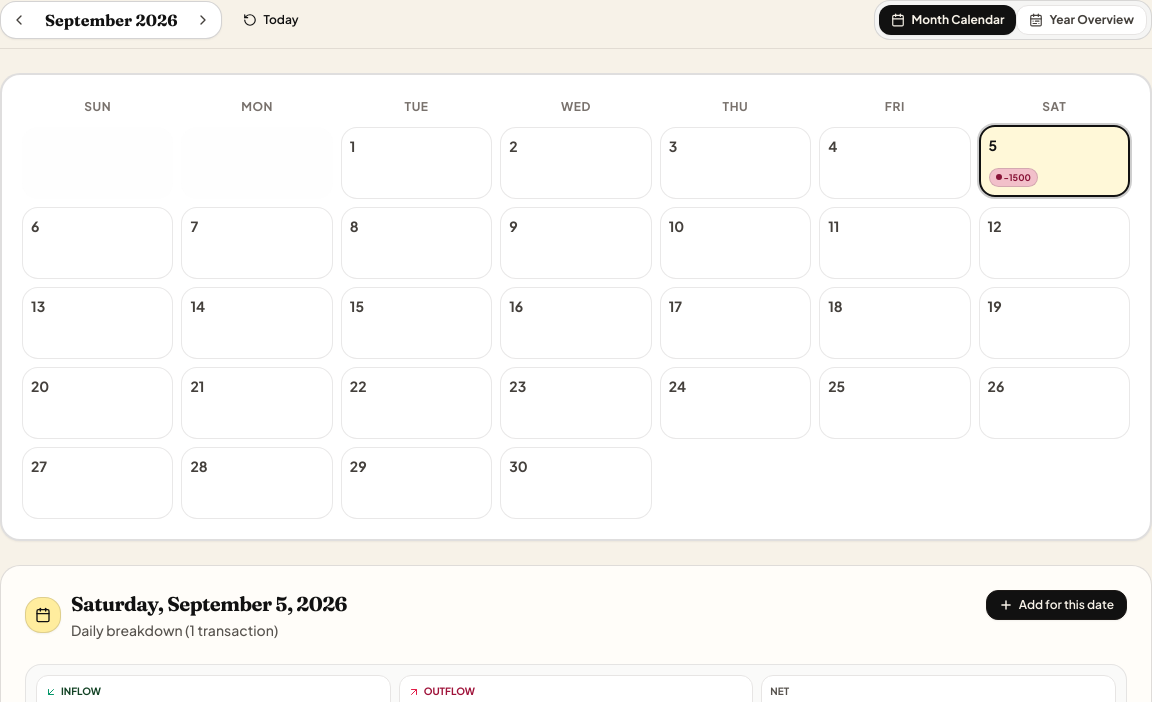
Test: CashFlowView Component (TDD) › navigates previous and next months
Click the button with test id "prev-month-btn" at (19, 20), box [5,6,33,34]
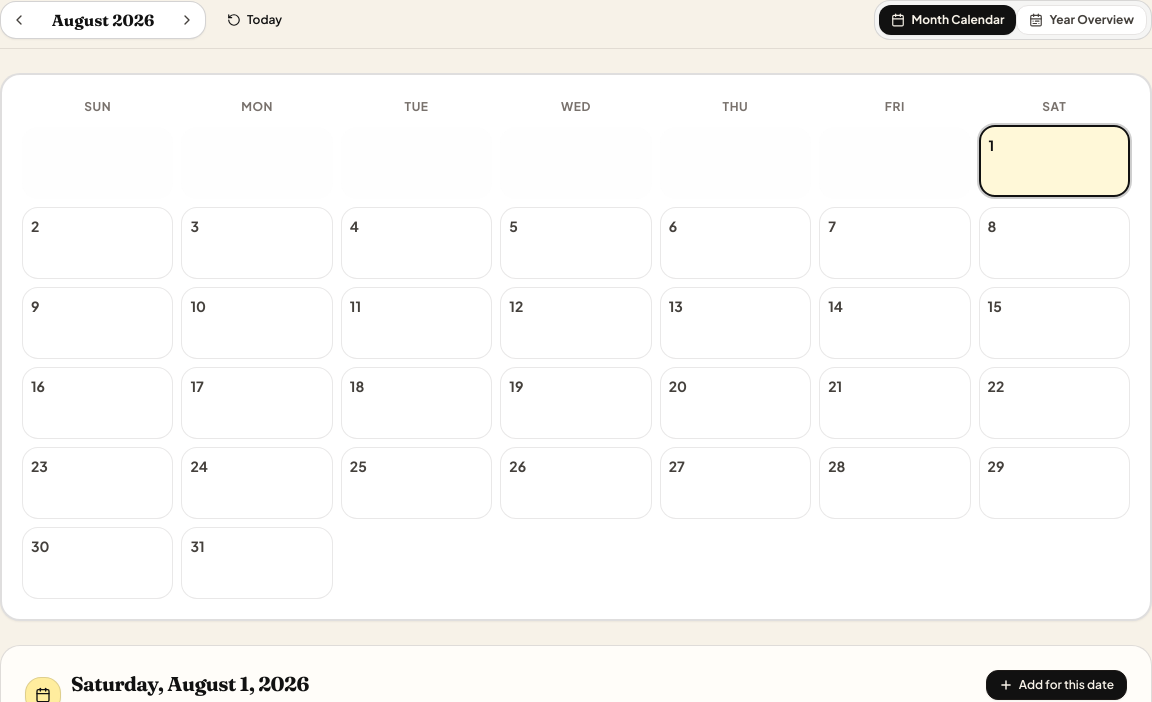
Result: the text "August 2026" is shown at [52,10,154,30]
Click the button with test id "next-month-btn" at (187, 20), box [173,6,201,34]
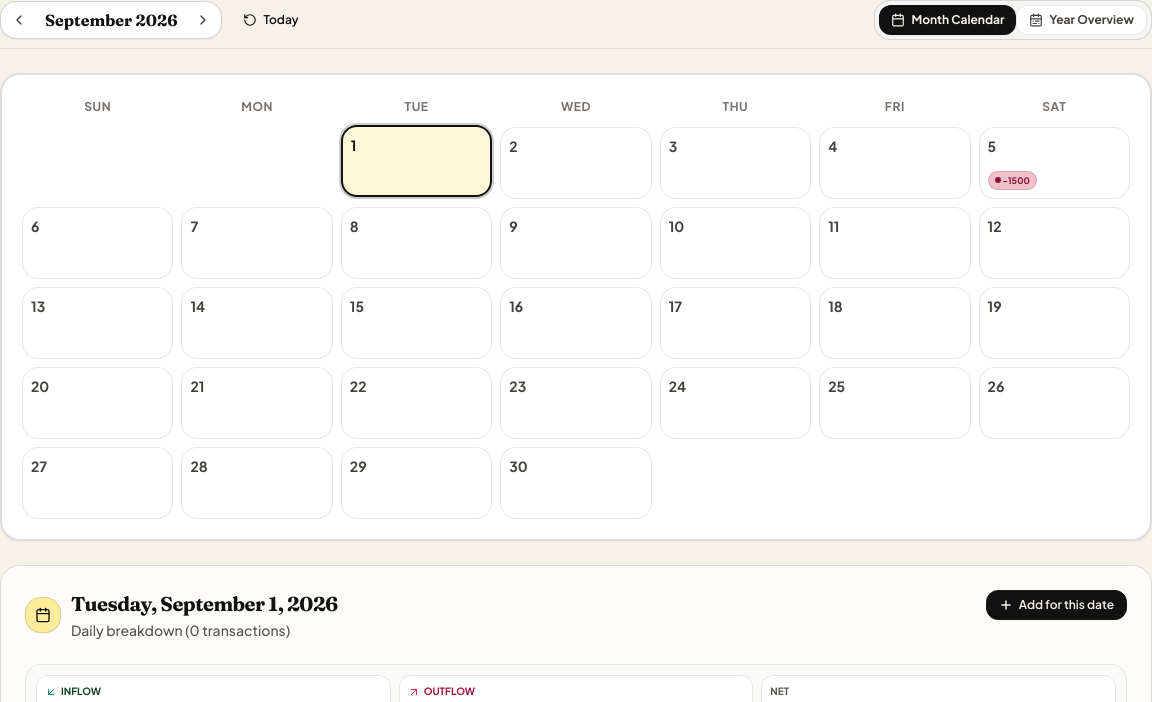
Result: the text "September 2026" is shown at [45,10,178,30]
